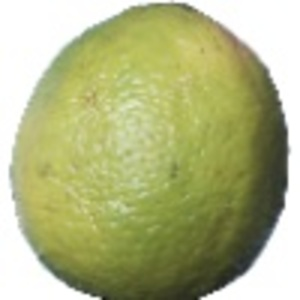limão: (10, 2, 288, 300)
